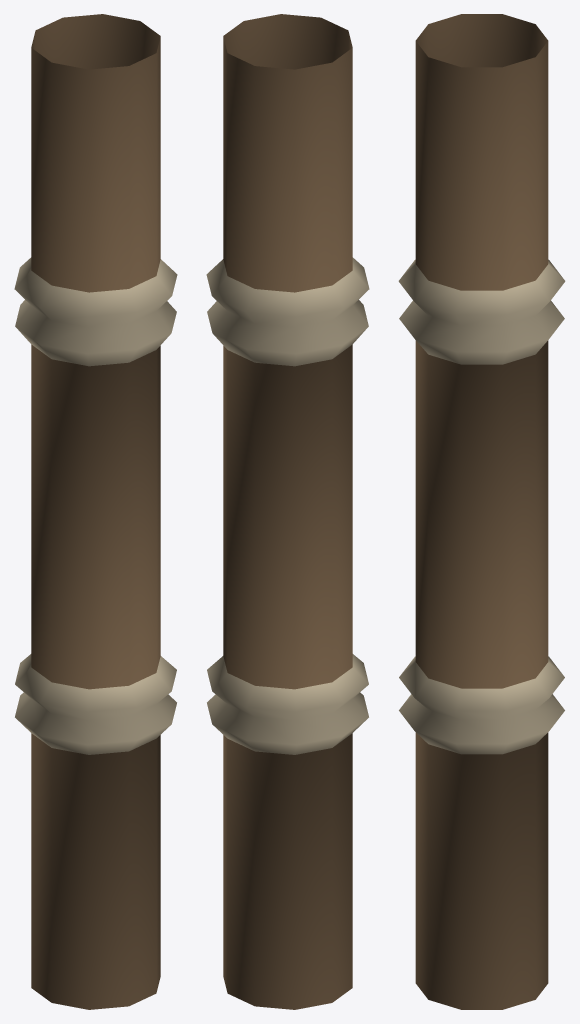
File: rpgpp_ag_support_beam_int_01a_3m.fbx
3 renders of one model, left to right at view 1: azimuth 30°, elevation 25°; view 2: azimuth 150°, elevation 25°; view 3: azimuth 270°, elevation 25°, orthographic.
Parts seen in each view (by area): view 1: rpgpp_ag_support_beam_int_01a_3m; view 2: rpgpp_ag_support_beam_int_01a_3m; view 3: rpgpp_ag_support_beam_int_01a_3m.
Boxes of the visible parts, x1,y1,x2,y2 form: rpgpp_ag_support_beam_int_01a_3m: (14,14,177,1009); rpgpp_ag_support_beam_int_01a_3m: (206,14,369,1009); rpgpp_ag_support_beam_int_01a_3m: (398,14,565,1009).
Bounding box in the file's own units: 0.4431 × 2.9 × 0.4659.
